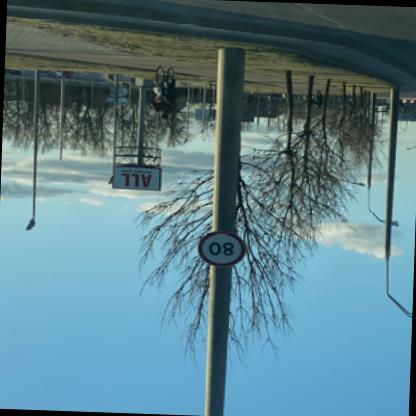speedlimit: (199, 231, 249, 268)
